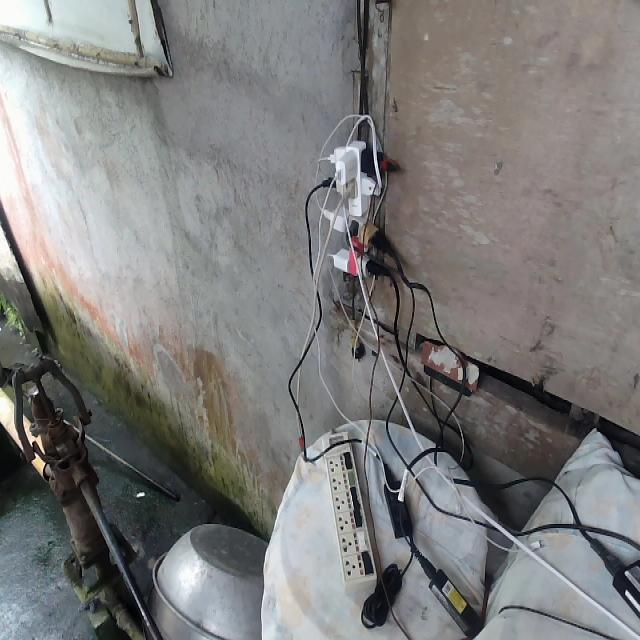-: (315, 132, 389, 281)
